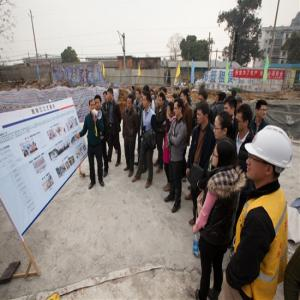none: (211, 140, 239, 171), (214, 113, 232, 137), (237, 106, 253, 130), (196, 102, 210, 126), (257, 99, 268, 121), (225, 95, 237, 114), (174, 99, 184, 117), (199, 91, 210, 105), (126, 94, 135, 111), (143, 92, 151, 109), (167, 102, 175, 118), (158, 93, 166, 108), (95, 95, 103, 110), (107, 87, 115, 101), (218, 92, 227, 104), (180, 90, 188, 103), (89, 99, 96, 113), (236, 96, 243, 109), (135, 88, 142, 100), (161, 88, 168, 95), (103, 91, 107, 101), (176, 87, 180, 95), (132, 85, 136, 92)
white: (247, 125, 289, 186)
